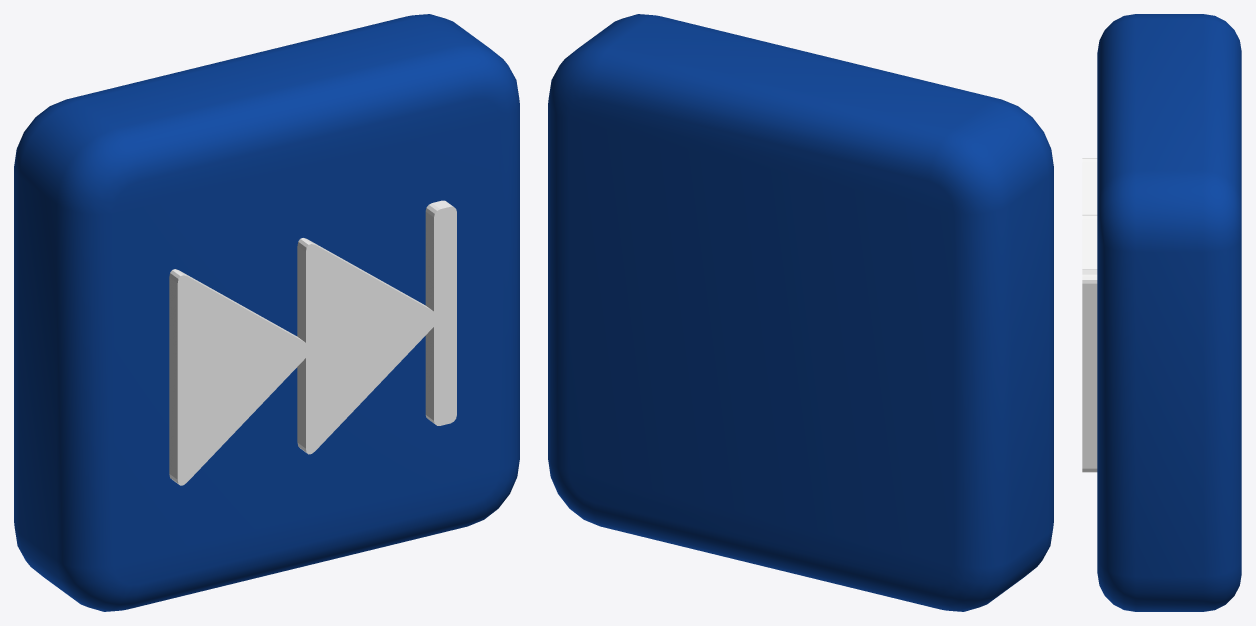
The model's file is next_track_button.glb.
3 views of the same model, side by side, from view 1: azimuth 30°, elevation 25°; view 2: azimuth 150°, elevation 25°; view 3: azimuth 270°, elevation 25° (orthographic). The views are drawn at different scales.
Visible parts, largest first — view 1: Cube.6421; view 2: Cube.6421; view 3: Cube.6421.
Boxes of the visible parts, x1,y1,x2,y2 form: Cube.6421: (14,14,519,611); Cube.6421: (548,14,1053,611); Cube.6421: (1082,14,1241,611).
Size of the model in its own units: 2.2 by 2.2 by 0.73.
1 material, 1 textured.
